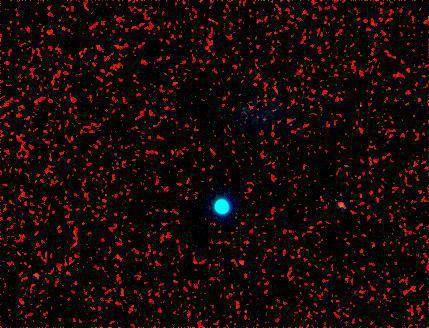star: (324, 195, 354, 225)
